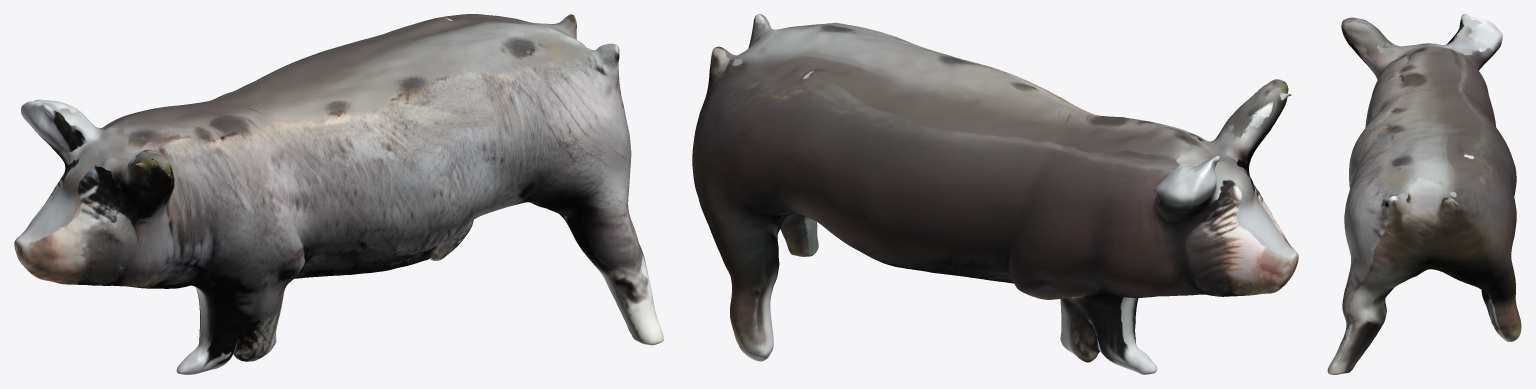
File: joven.glb
The picture shows the model from 3 angles, left to right: view 1: azimuth 30°, elevation 25°; view 2: azimuth 150°, elevation 25°; view 3: azimuth 270°, elevation 25°; orthographic projection. The views are drawn at different scales.
Parts seen in each view (by area): view 1: mesh; view 2: mesh; view 3: mesh.
Boxes of the visible parts, <box> form: mesh: <box>14,14,663,374</box>; mesh: <box>692,14,1298,374</box>; mesh: <box>1327,14,1521,374</box>.
Bounding box in the file's own units: 1.69 × 0.831 × 0.7415.
Materials: 1 (1 with a texture image).
